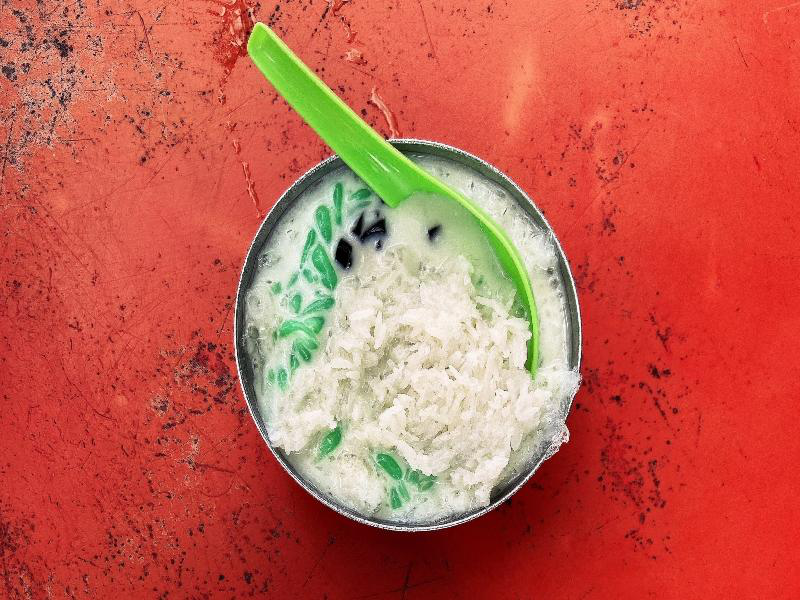Chendol: (216, 147, 593, 529)
